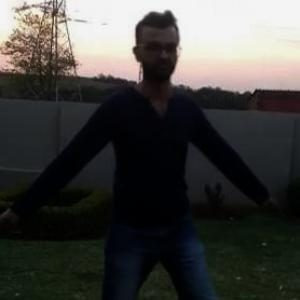land: (16, 24, 254, 299)
